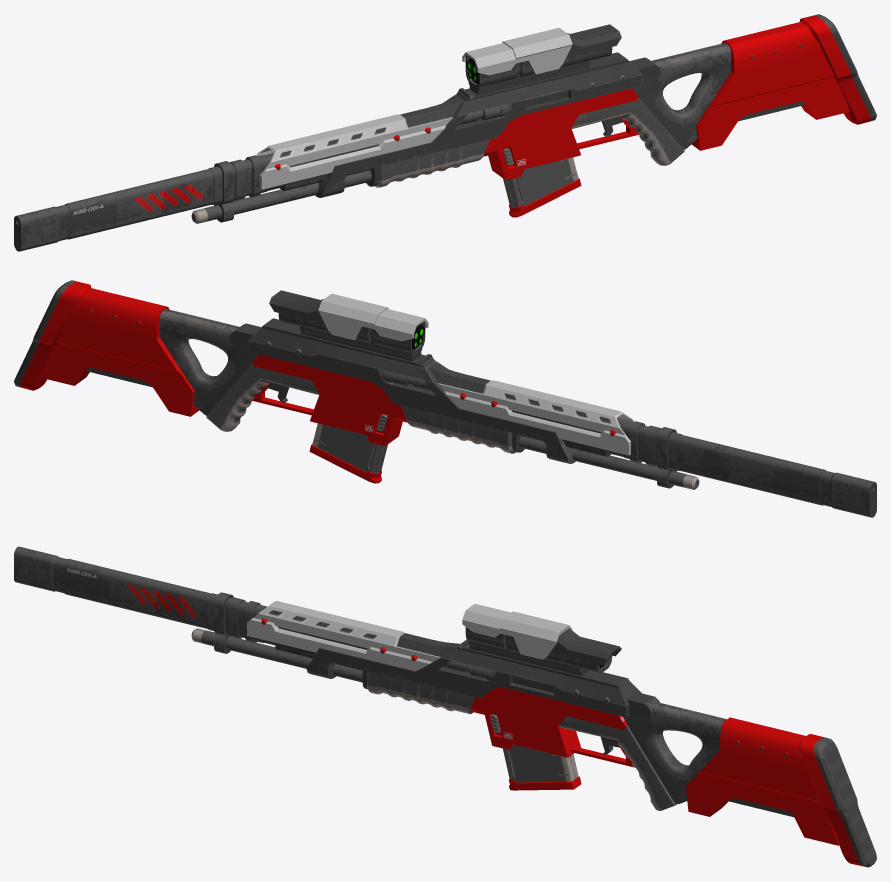
The model's file is Gun_Sniper_Red.obj.
3 views of the same model, one above another, from view 1: azimuth 30°, elevation 25°; view 2: azimuth 150°, elevation 25°; view 3: azimuth 330°, elevation 25° (orthographic).
Visible parts, largest first — view 1: Gun_Sniper_Red_Cylinder.004; view 2: Gun_Sniper_Red_Cylinder.004; view 3: Gun_Sniper_Red_Cylinder.004.
Boxes of the visible parts, x1,y1,x2,y2 form: Gun_Sniper_Red_Cylinder.004: (14,14,876,251); Gun_Sniper_Red_Cylinder.004: (14,280,876,517); Gun_Sniper_Red_Cylinder.004: (14,546,876,867).
Size of the model in its own units: 1.72 by 0.3299 by 0.0592.
